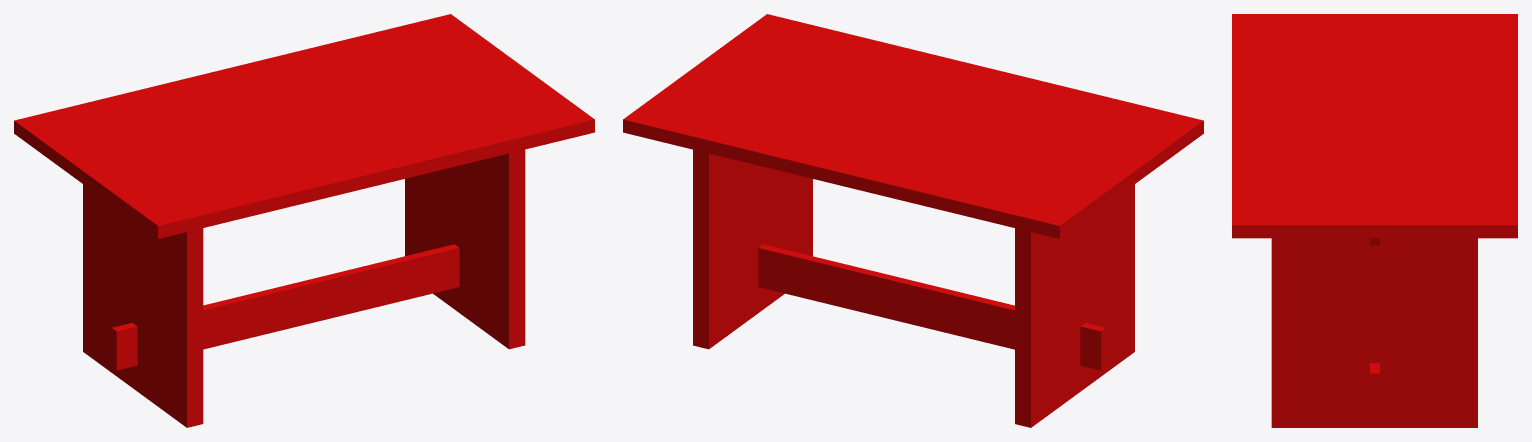
File: Table01Collider.fbx
The picture shows the model from 3 angles, left to right: view 1: azimuth 30°, elevation 25°; view 2: azimuth 150°, elevation 25°; view 3: azimuth 270°, elevation 25°; orthographic projection.
Visible parts, largest first — view 1: Table01Collision; view 2: Table01Collision; view 3: Table01Collision.
Boxes of the visible parts, bbox=[...] form: Table01Collision: bbox=[14, 14, 594, 427]; Table01Collision: bbox=[623, 14, 1203, 427]; Table01Collision: bbox=[1232, 14, 1517, 427].
Size of the model in its own units: 193 by 96.57 by 110.
